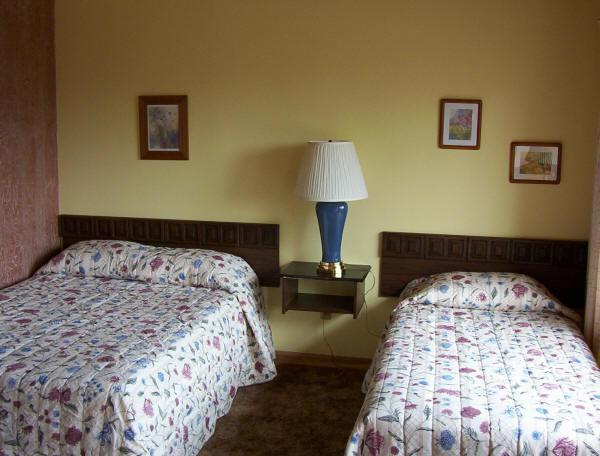Cama: (2, 245, 247, 452), (350, 289, 578, 452)
